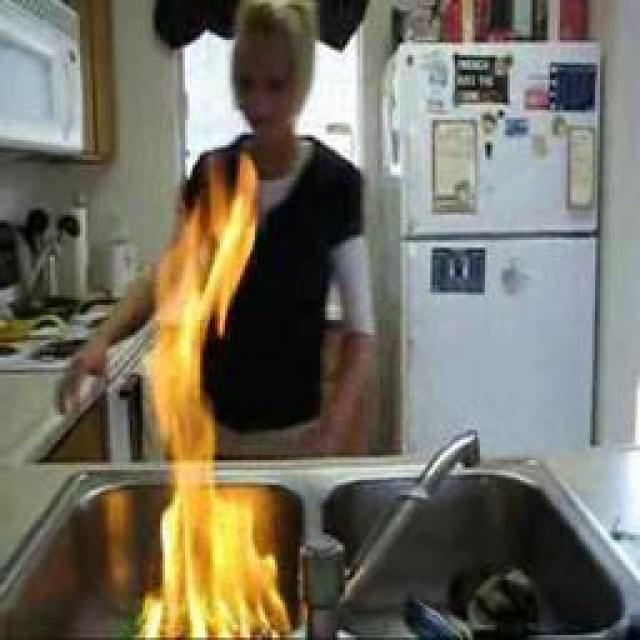Fire: (149, 158, 275, 640)
